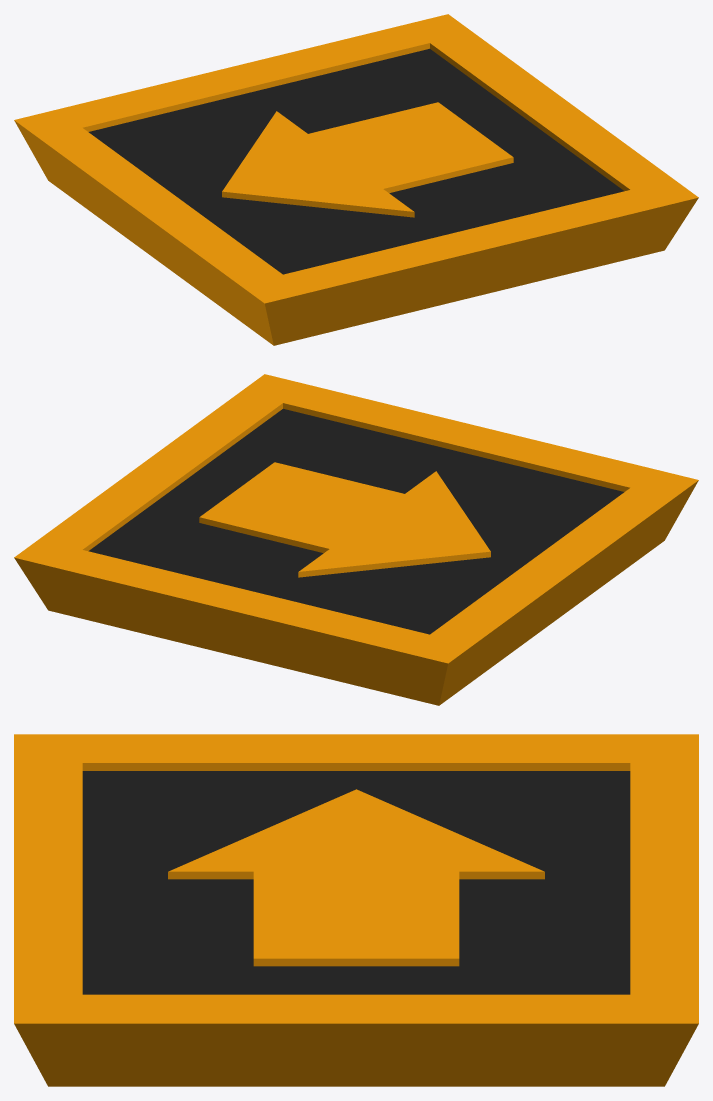
Rendered from PlataformaM 1.fbx.
3 views of the same model, one above another, from view 1: azimuth 30°, elevation 25°; view 2: azimuth 150°, elevation 25°; view 3: azimuth 270°, elevation 25° (orthographic). The views are drawn at different scales.
Visible parts, largest first — view 1: Cube; view 2: Cube; view 3: Cube.
Part boxes in pixels (x1,y1,x2,y2): Cube: (14, 14, 698, 345); Cube: (14, 374, 698, 705); Cube: (14, 734, 698, 1086).
Bounding box in the file's own units: 800 × 100 × 800.
Materials: 1 (1 with a texture image).
